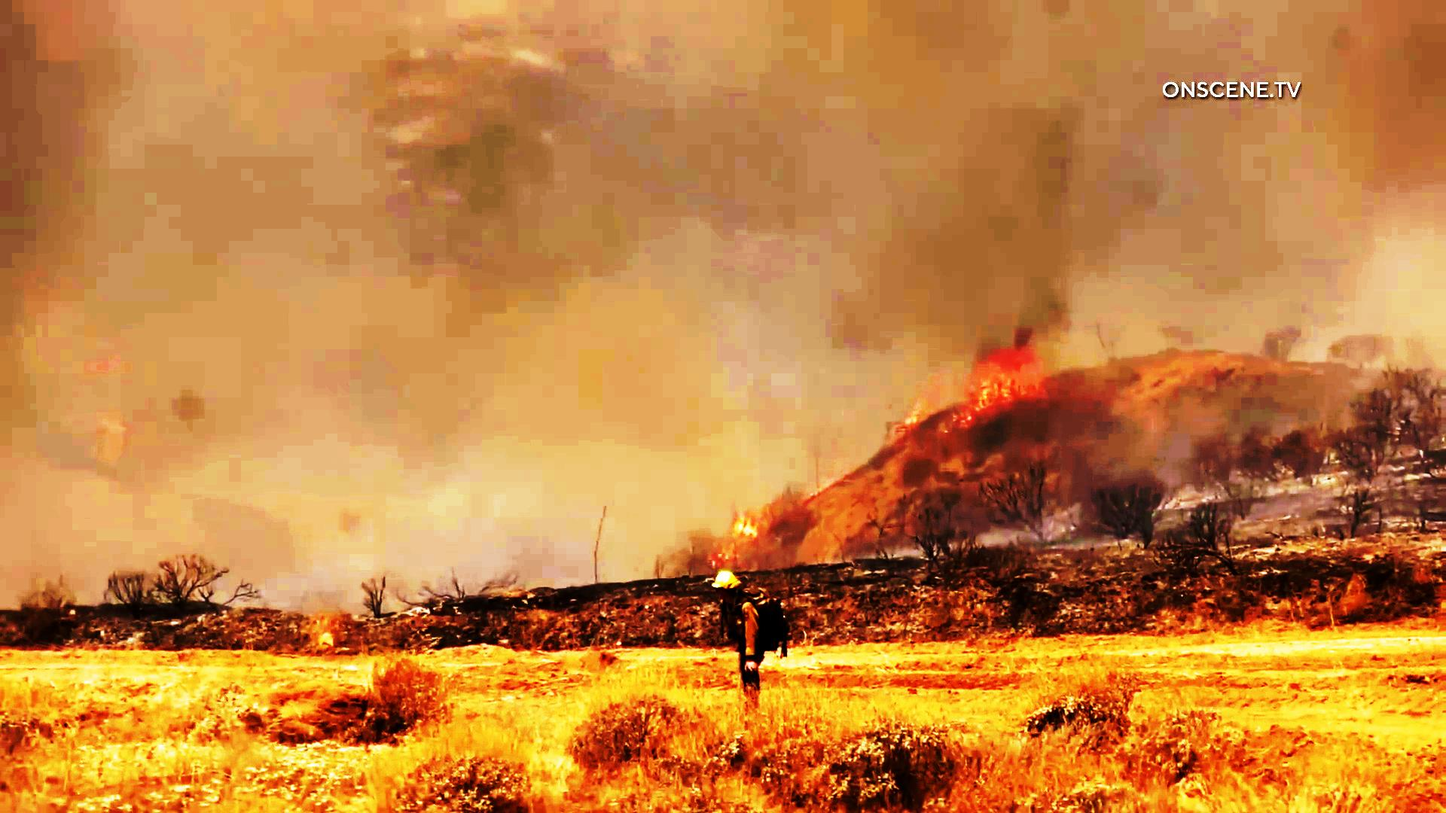fire: (966, 337, 1072, 432), (720, 514, 758, 560)
